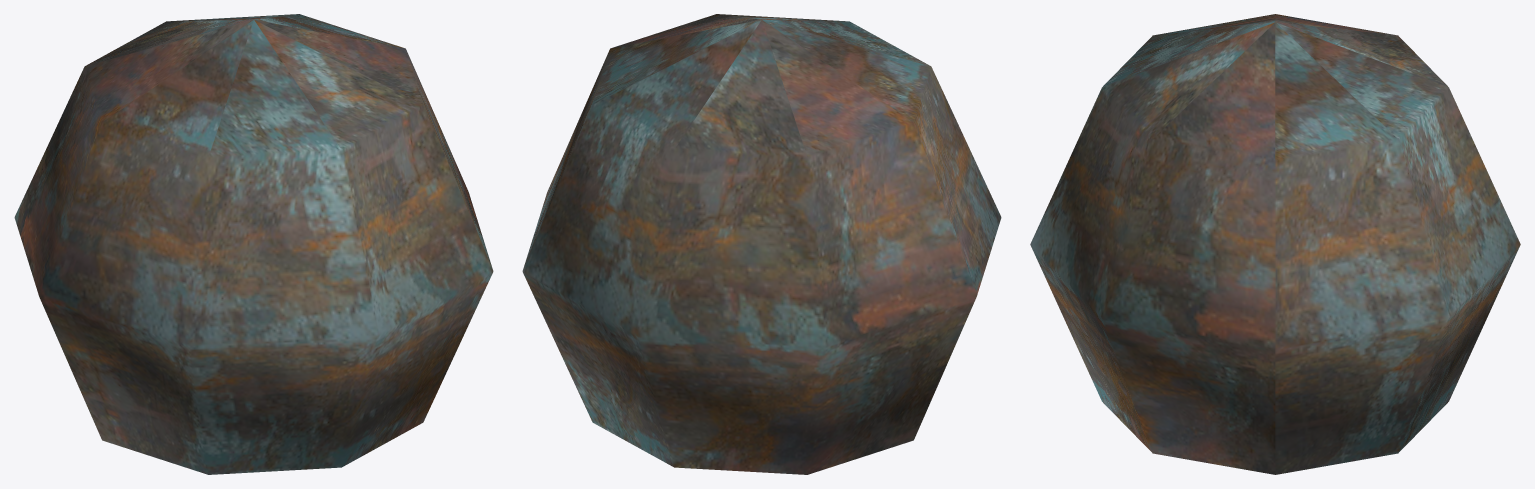
Rendered from pipe-cap-lowpoly.obj.
The picture shows the model from 3 angles, left to right: view 1: azimuth 30°, elevation 25°; view 2: azimuth 150°, elevation 25°; view 3: azimuth 270°, elevation 25°; orthographic projection.
Bounding box in the file's own units: 2 × 2 × 2.
Materials: 1 (1 with a texture image).
